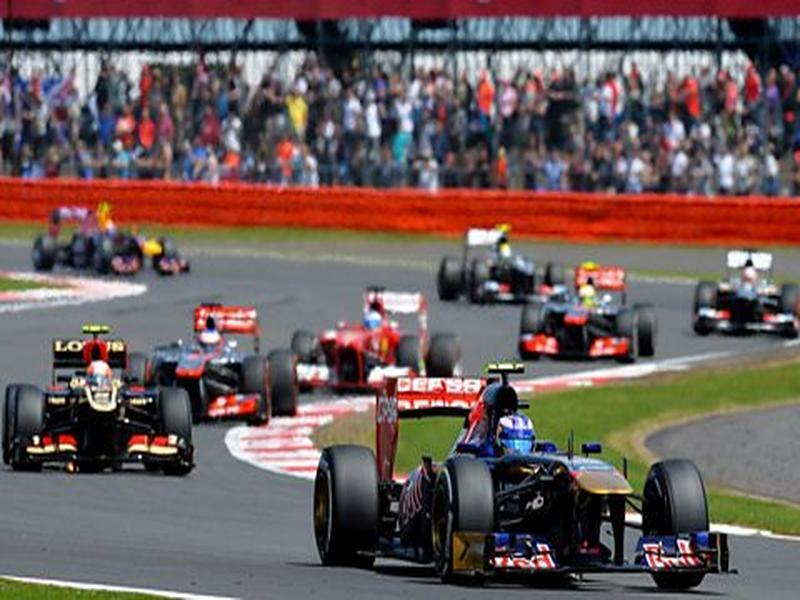f1: (296, 358, 755, 586), (4, 323, 198, 480), (280, 271, 464, 394), (161, 291, 300, 434), (515, 258, 663, 372), (693, 244, 800, 333)
